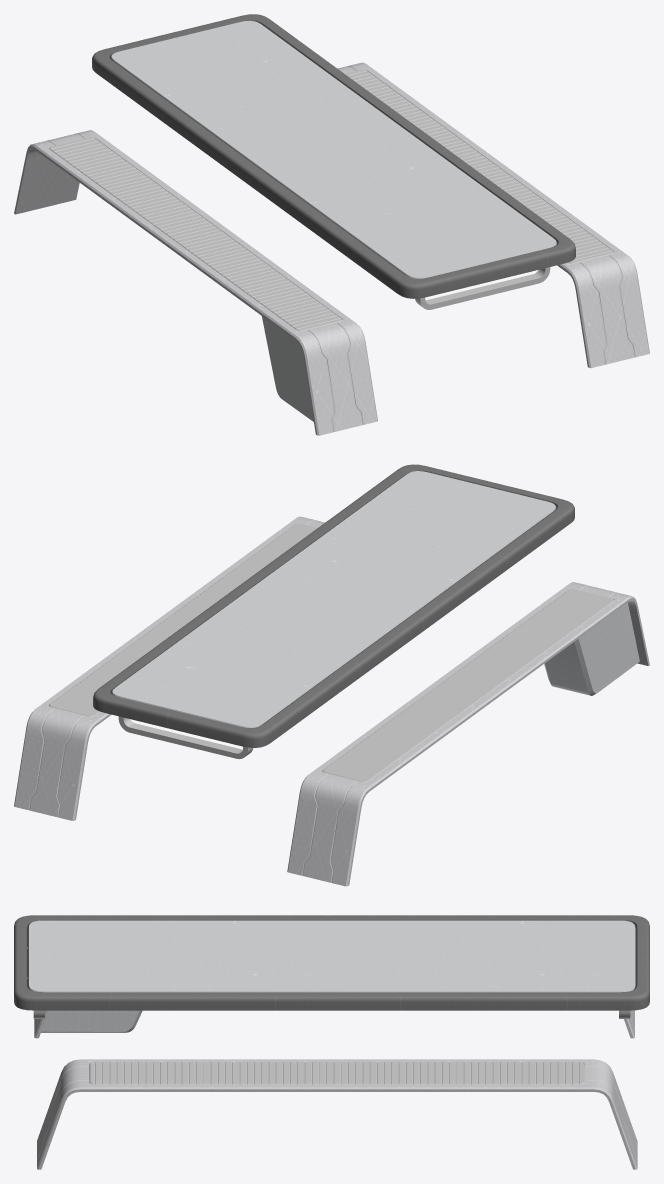
The model's file is K051_高科技街道_02.fbx.
3 views of the same model, one above another, from view 1: azimuth 30°, elevation 25°; view 2: azimuth 150°, elevation 25°; view 3: azimuth 270°, elevation 25° (orthographic).
Visible parts, largest first — view 1: KB3D_HTS_Bench_B_Main, KB3D_HTS_Bench_B_BenchB, KB3D_HTS_Bench_B_BenchA; view 2: KB3D_HTS_Bench_B_Main, KB3D_HTS_Bench_B_BenchB, KB3D_HTS_Bench_B_BenchA; view 3: KB3D_HTS_Bench_B_Main, KB3D_HTS_Bench_B_BenchA, KB3D_HTS_Bench_B_BenchB.
Part boxes in pixels (x1,y1,x2,y2): KB3D_HTS_Bench_B_Main: (92,14,575,309); KB3D_HTS_Bench_B_BenchB: (14,130,377,435); KB3D_HTS_Bench_B_BenchA: (337,62,649,368); KB3D_HTS_Bench_B_Main: (93,464,574,759); KB3D_HTS_Bench_B_BenchB: (287,582,649,886); KB3D_HTS_Bench_B_BenchA: (14,516,324,820); KB3D_HTS_Bench_B_Main: (14,915,649,1018); KB3D_HTS_Bench_B_BenchA: (37,1059,637,1169); KB3D_HTS_Bench_B_BenchB: (34,1010,634,1038).
Size of the model in its own units: 2.64 by 1.03 by 4.42.
